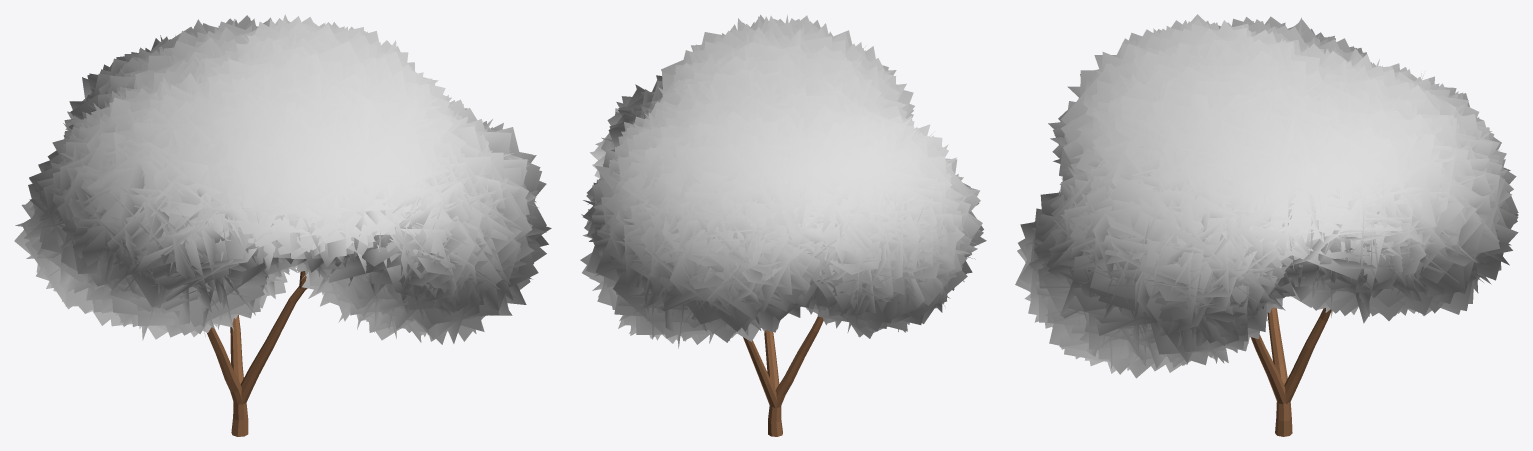
The model's file is SM_Tree_001.fbx.
3 views of the same model, side by side, from view 1: azimuth 30°, elevation 25°; view 2: azimuth 150°, elevation 25°; view 3: azimuth 270°, elevation 25° (orthographic). The views are drawn at different scales.
Visible parts, largest first — view 1: FullTree; view 2: FullTree; view 3: FullTree.
Part boxes in pixels (x1,y1,x2,y2): FullTree: (14,14,551,436); FullTree: (580,14,986,436); FullTree: (1015,14,1518,436).
Size of the model in its own units: 1921 by 1706 by 1856.
